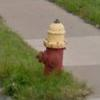Hydrant: (35, 13, 71, 82)
